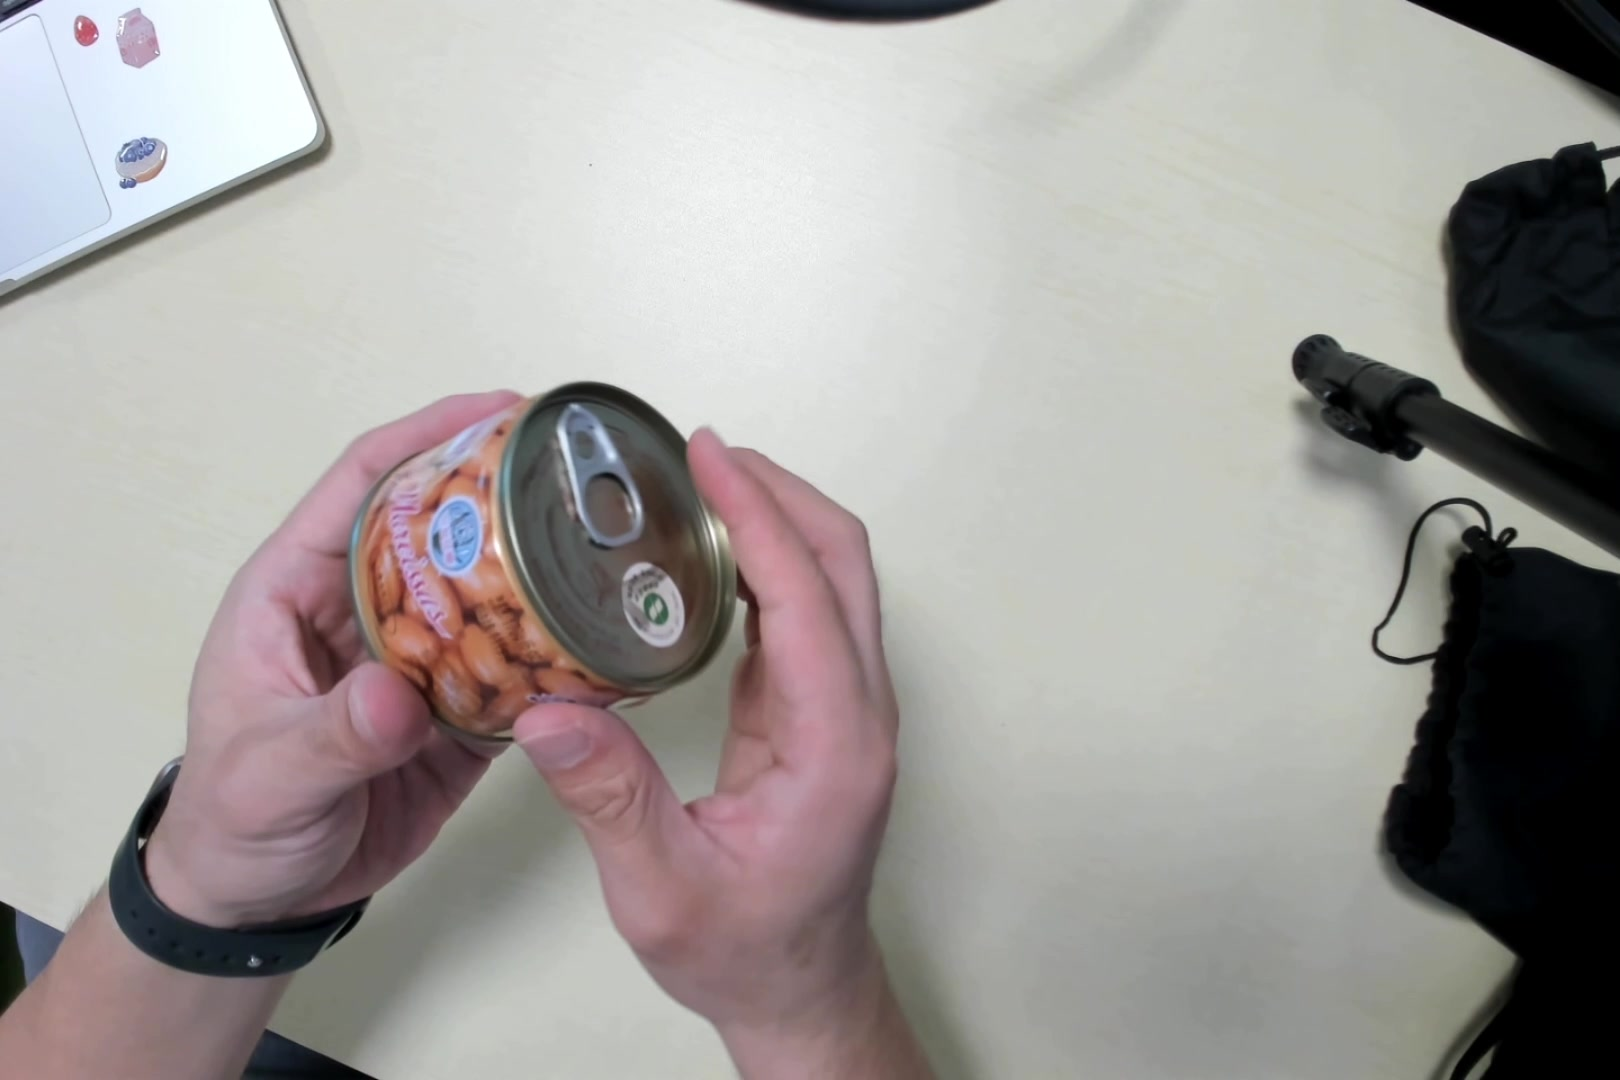CannedBraisedPeanuts_100-199g_NonHalal_NonHealthy: (365, 394, 729, 723)
